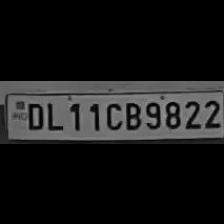1: (64, 98, 84, 130), (84, 98, 102, 130)
2: (200, 96, 220, 128), (182, 96, 200, 128)
8: (162, 97, 180, 128)
9: (142, 97, 162, 129)
B: (120, 97, 142, 129)
C: (102, 98, 122, 130)
D: (22, 98, 46, 130)
L: (44, 98, 64, 130)
